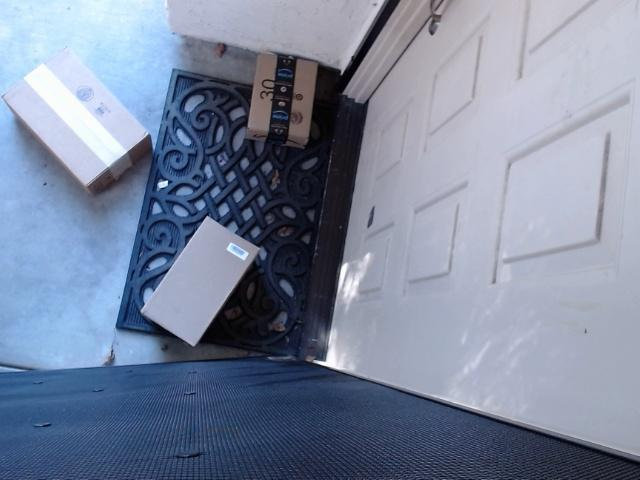box: (0, 31, 170, 216), (133, 214, 261, 363), (202, 34, 328, 177)
